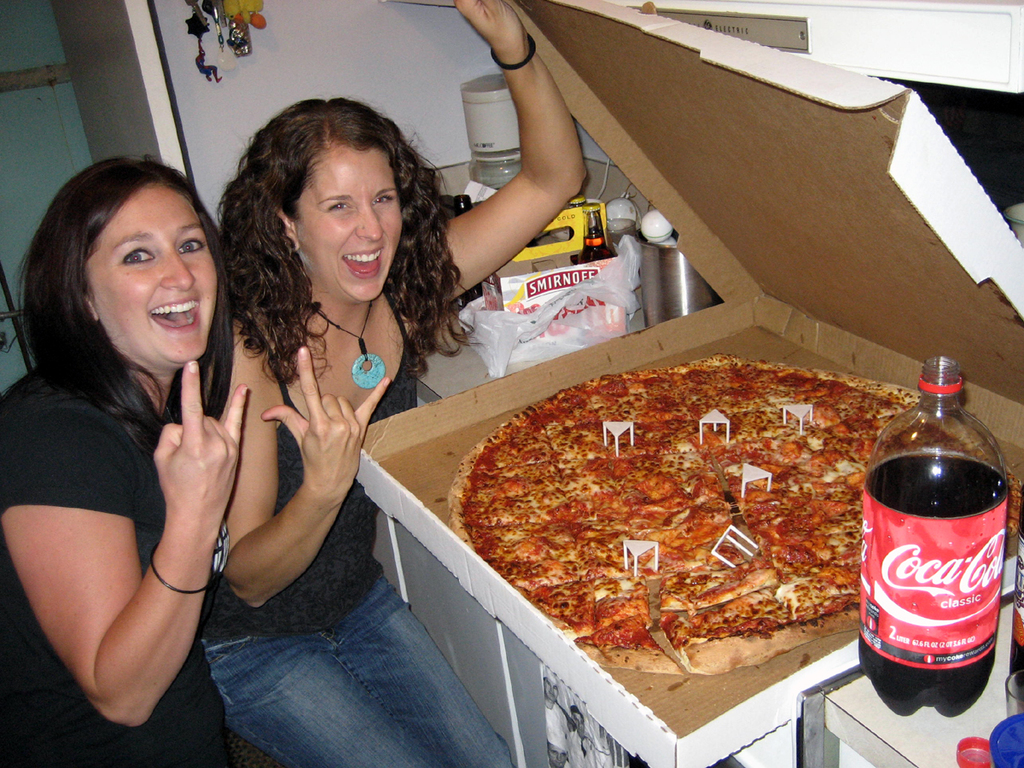Pizza: (395, 299, 1023, 690)
